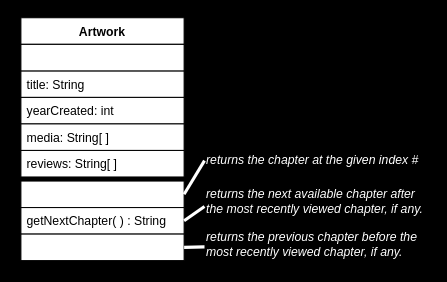
This 447x282 diagram has some shape labels left out. Each missing label, with the centre of its shape:
"artist: String" belongs at (102,57).
"getChapter(n : int ) : String" belongs at (102,194).
"getPrevChapter( ) : String" belongs at (102,247).
